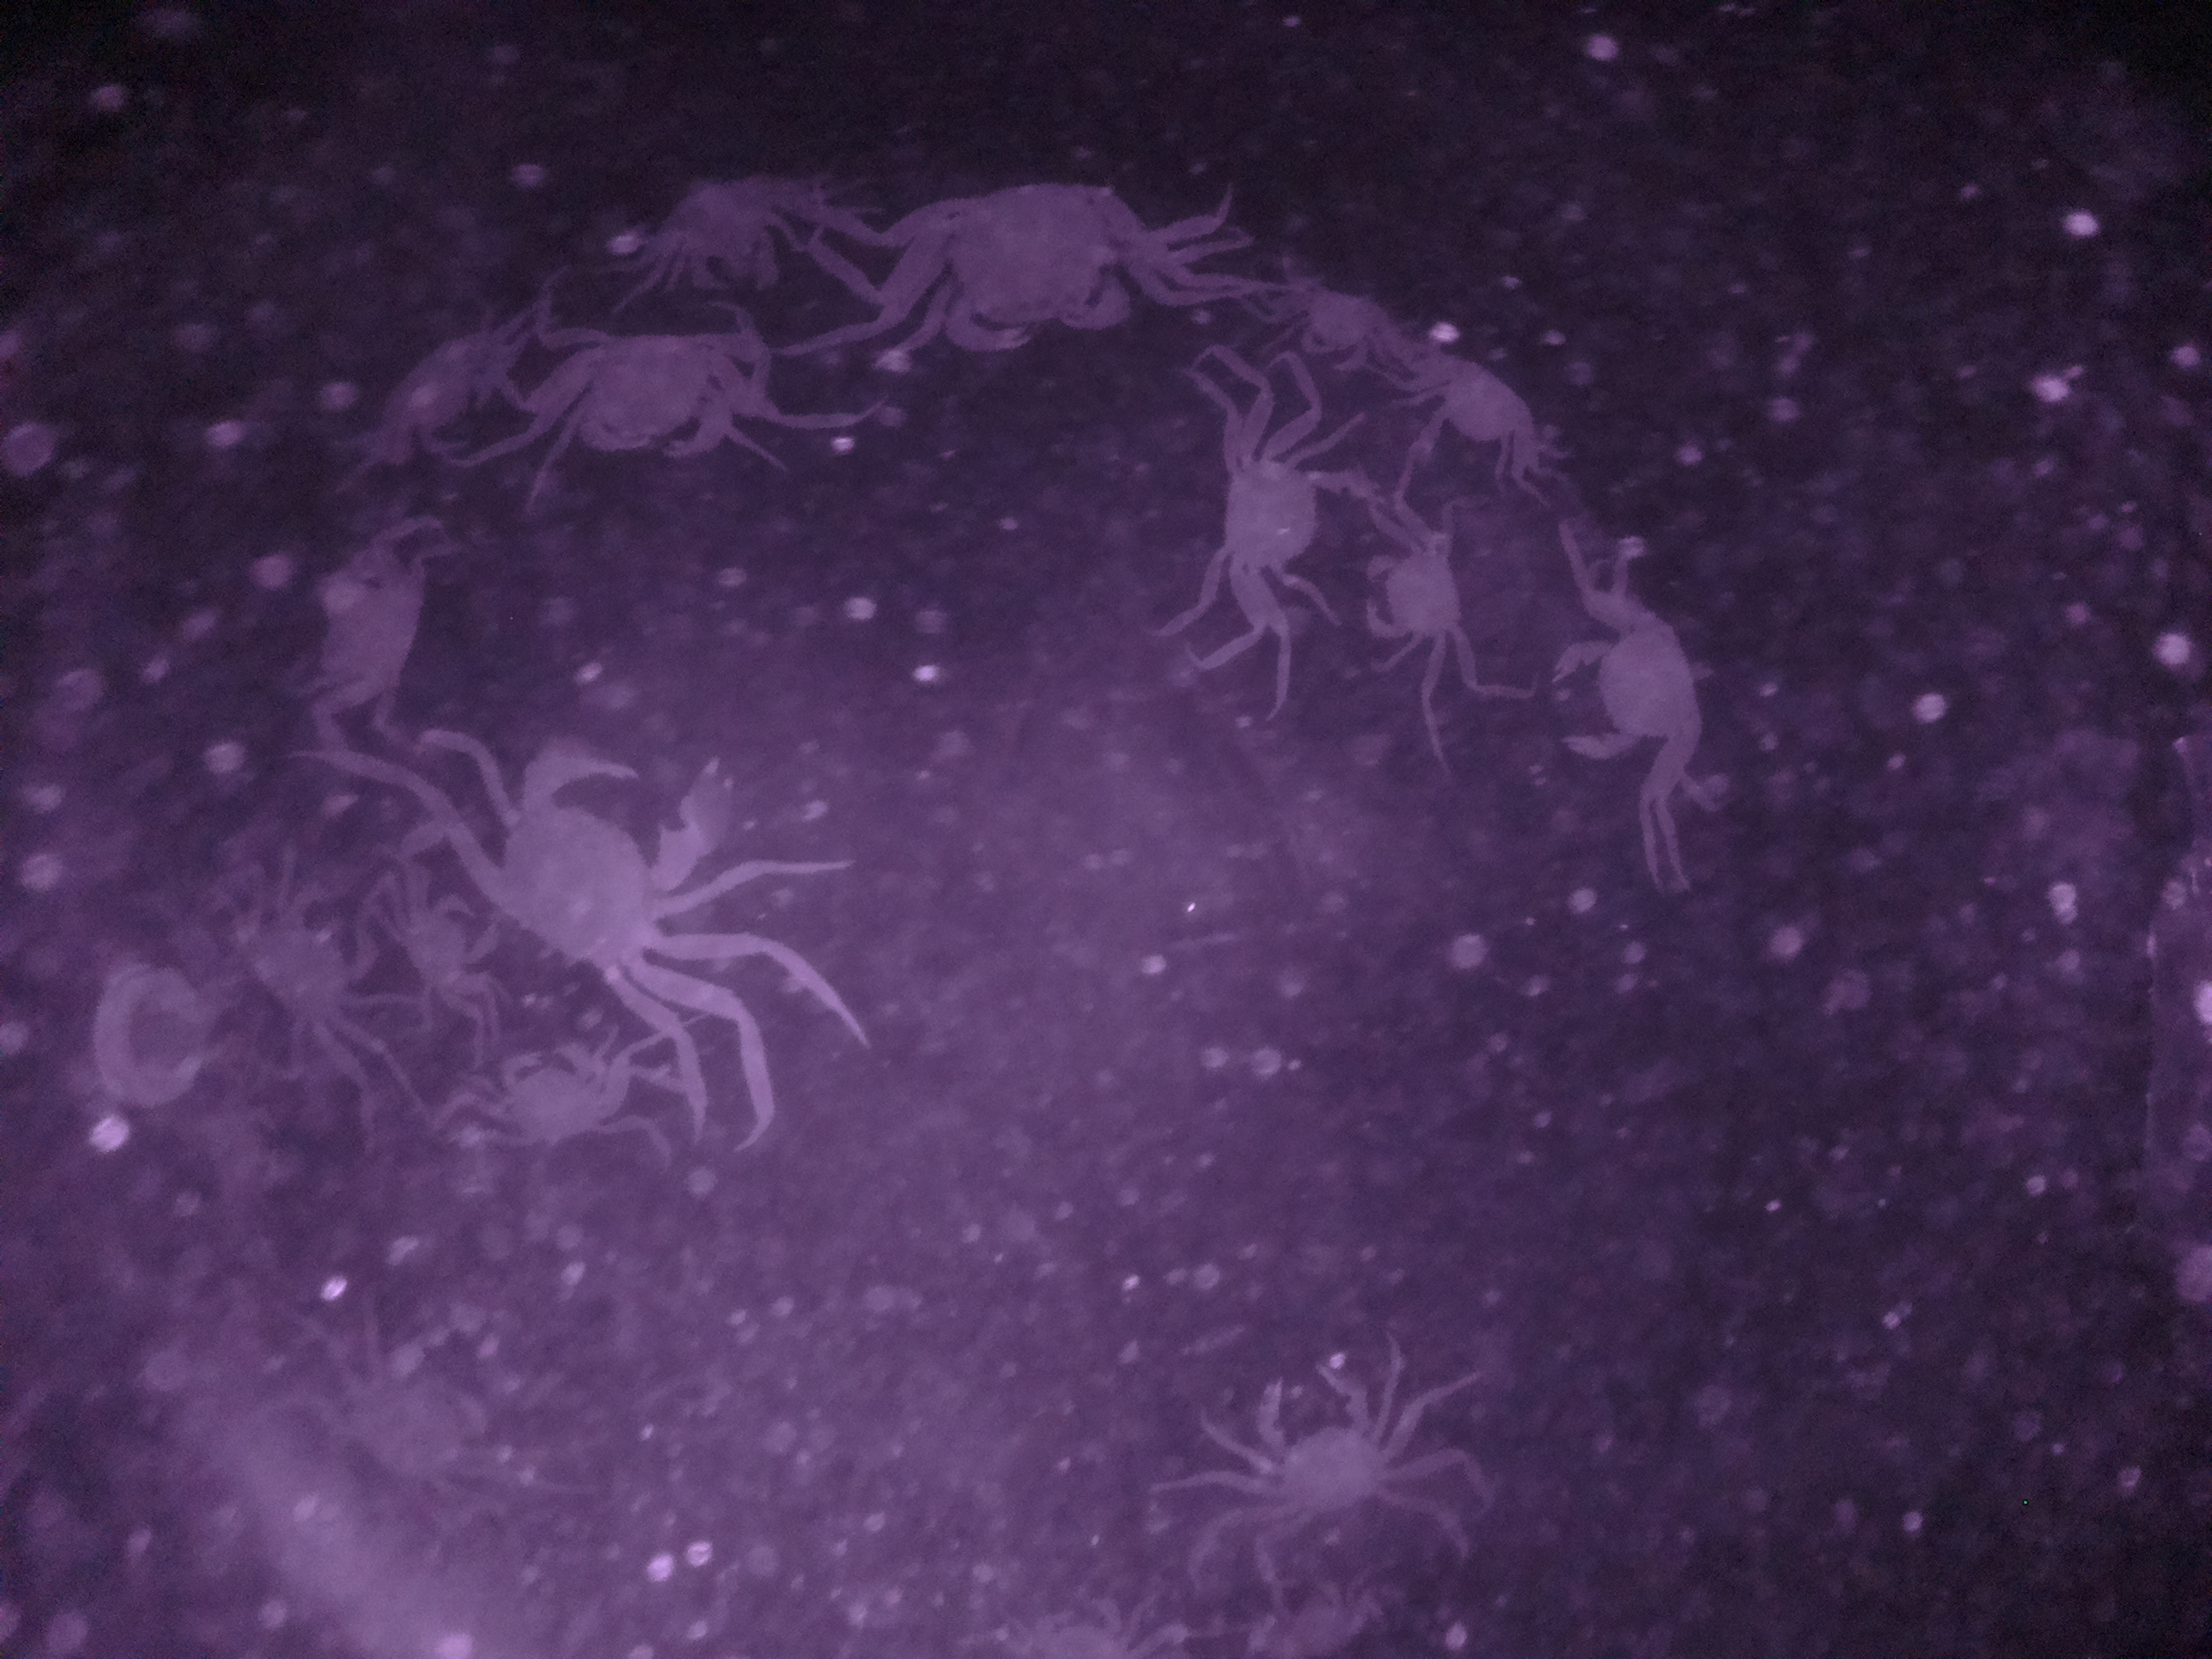Crab: (864, 171, 1219, 369), (1205, 1356, 1437, 1553), (540, 298, 766, 477), (1545, 554, 1696, 788), (1190, 415, 1343, 606), (1371, 343, 1588, 476), (465, 1028, 641, 1166), (1346, 491, 1460, 664), (1278, 284, 1379, 380)
